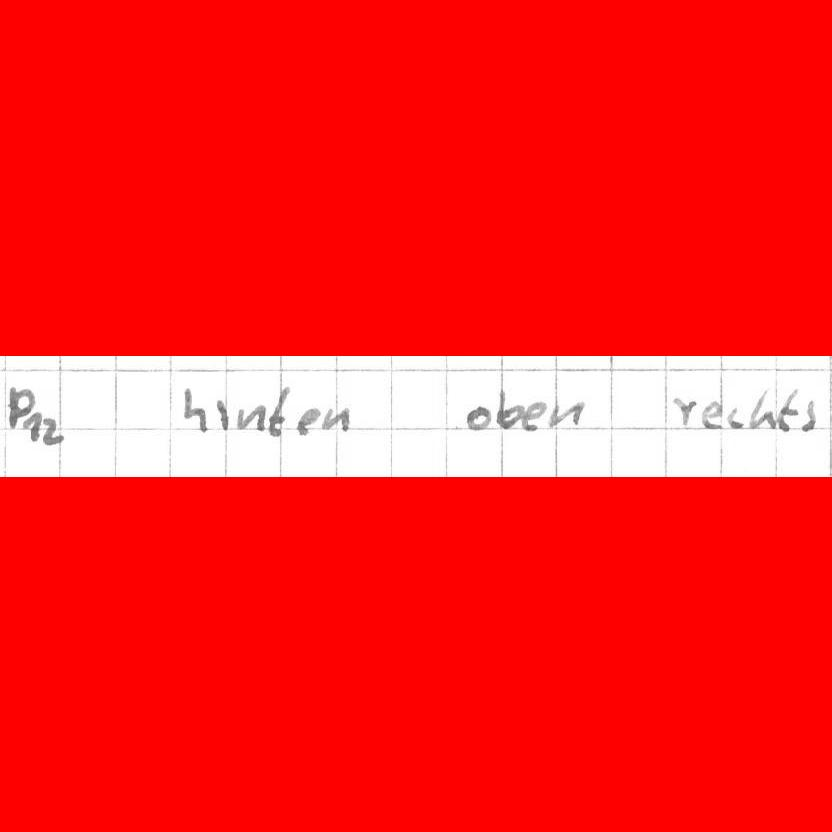Char: (179, 382, 210, 433), (265, 383, 291, 437), (7, 382, 35, 431), (745, 387, 775, 430), (495, 387, 524, 430), (774, 385, 799, 434), (38, 413, 67, 449), (234, 402, 268, 432), (547, 402, 582, 431), (321, 405, 353, 435), (698, 397, 725, 432), (521, 397, 547, 433), (673, 394, 699, 429), (465, 402, 494, 433), (295, 406, 321, 436), (21, 408, 42, 442), (800, 399, 819, 434), (722, 404, 745, 428), (214, 398, 230, 431)
